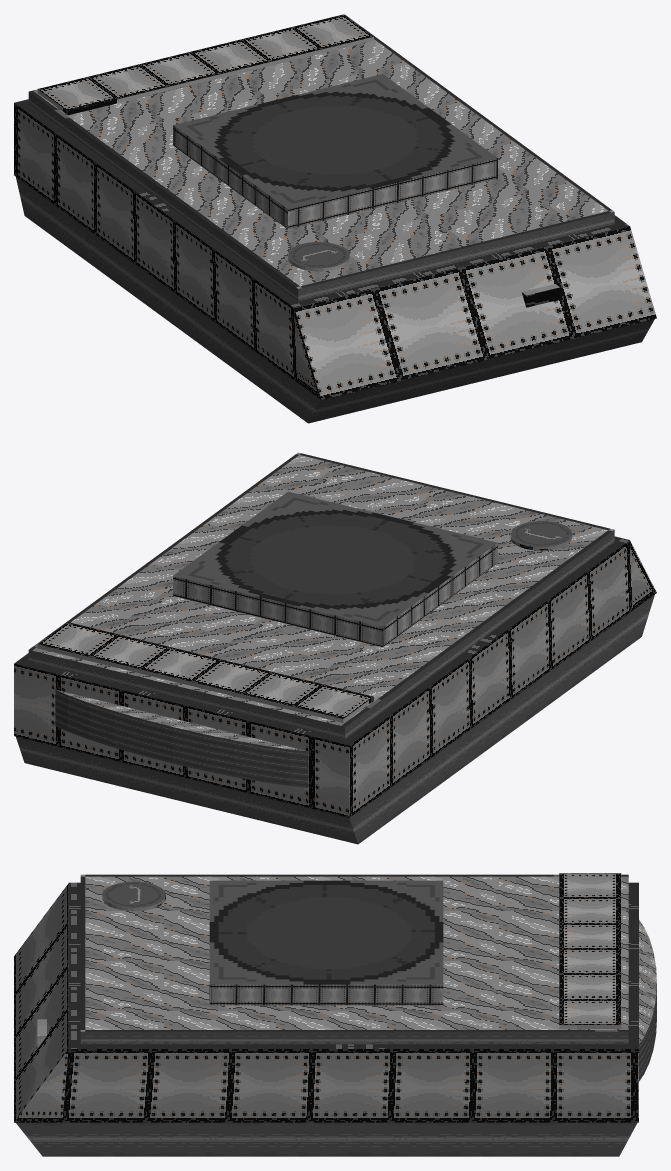
The model's file is TankBody-01.fbx.
3 renders of one model, top to bottom at view 1: azimuth 30°, elevation 25°; view 2: azimuth 150°, elevation 25°; view 3: azimuth 270°, elevation 25°, orthographic.
Parts seen in each view (by area): view 1: Cube; view 2: Cube; view 3: Cube.
Part boxes in pixels (<box>): Cube: <box>14,14,656,423</box>; Cube: <box>14,452,656,844</box>; Cube: <box>14,873,656,1156</box>.
Bounding box in the file's own units: 71.26 × 28.21 × 116.
